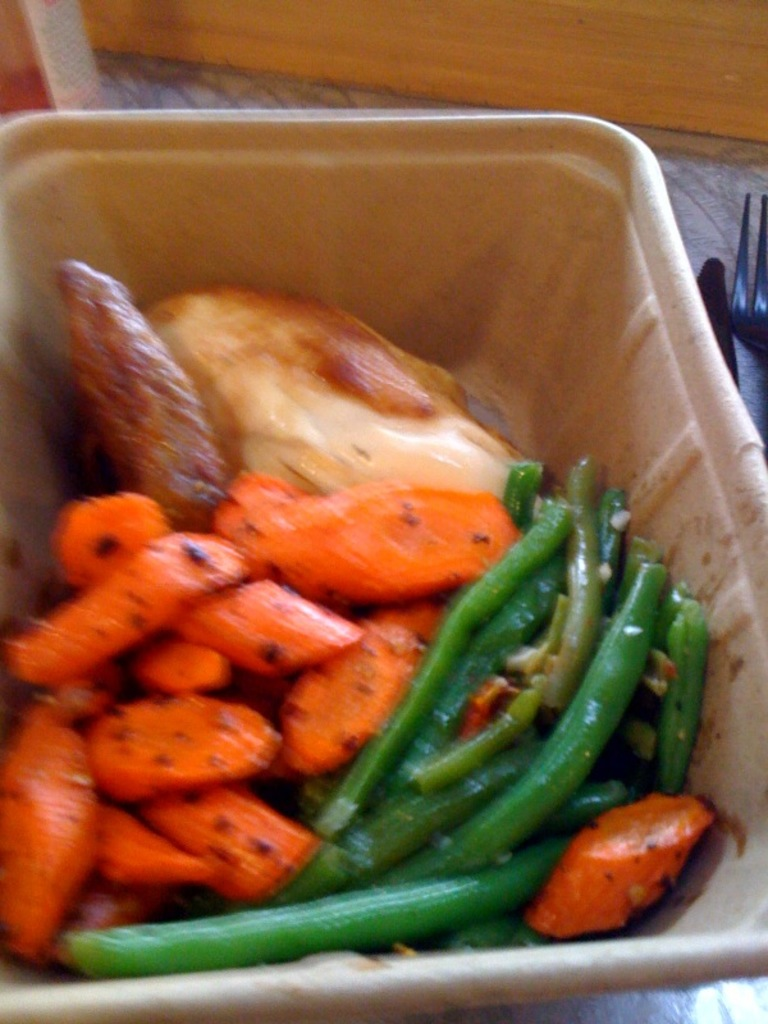Carrot: (6, 477, 523, 903), (0, 689, 97, 970), (529, 794, 707, 934)
